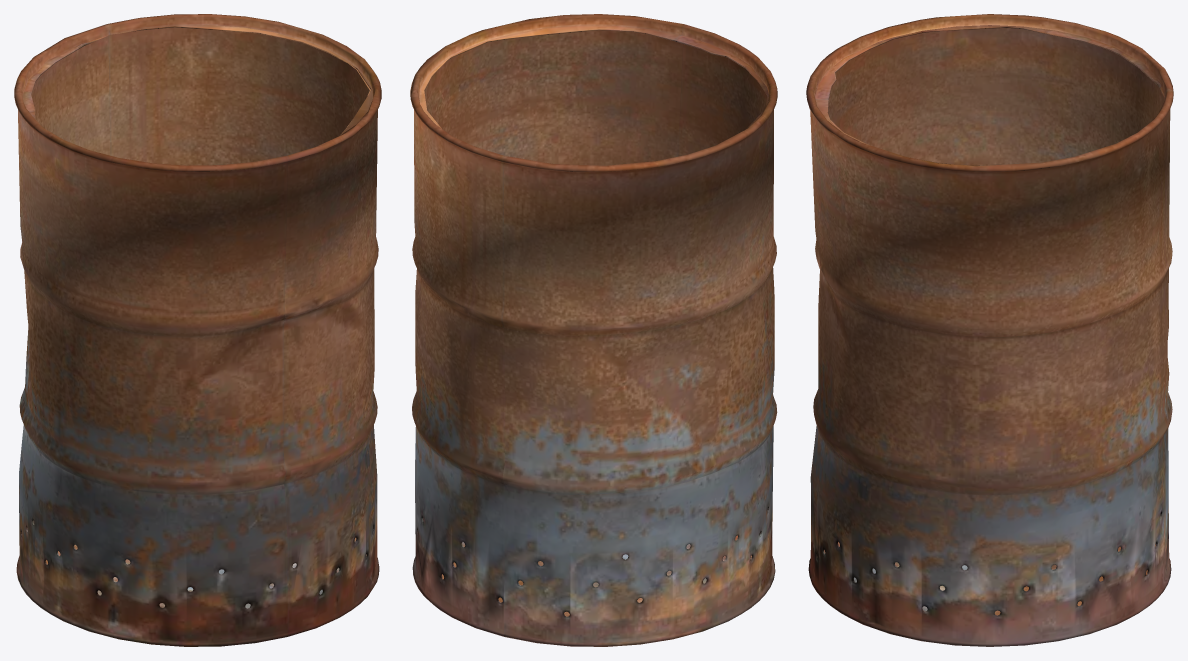
File: barrel_stove.glb
The picture shows the model from 3 angles, left to right: view 1: azimuth 30°, elevation 25°; view 2: azimuth 150°, elevation 25°; view 3: azimuth 270°, elevation 25°; orthographic projection.
Visible parts, largest first — view 1: barrel_stove; view 2: barrel_stove; view 3: barrel_stove.
Boxes of the visible parts, x1=… form: barrel_stove: x1=14, y1=14, x2=381, y2=646; barrel_stove: x1=410, y1=14, x2=777, y2=646; barrel_stove: x1=806, y1=14, x2=1173, y2=646.
Size of the model in its own units: 0.5926 by 0.8556 by 0.5925.
Materials: 1 (1 with a texture image).
